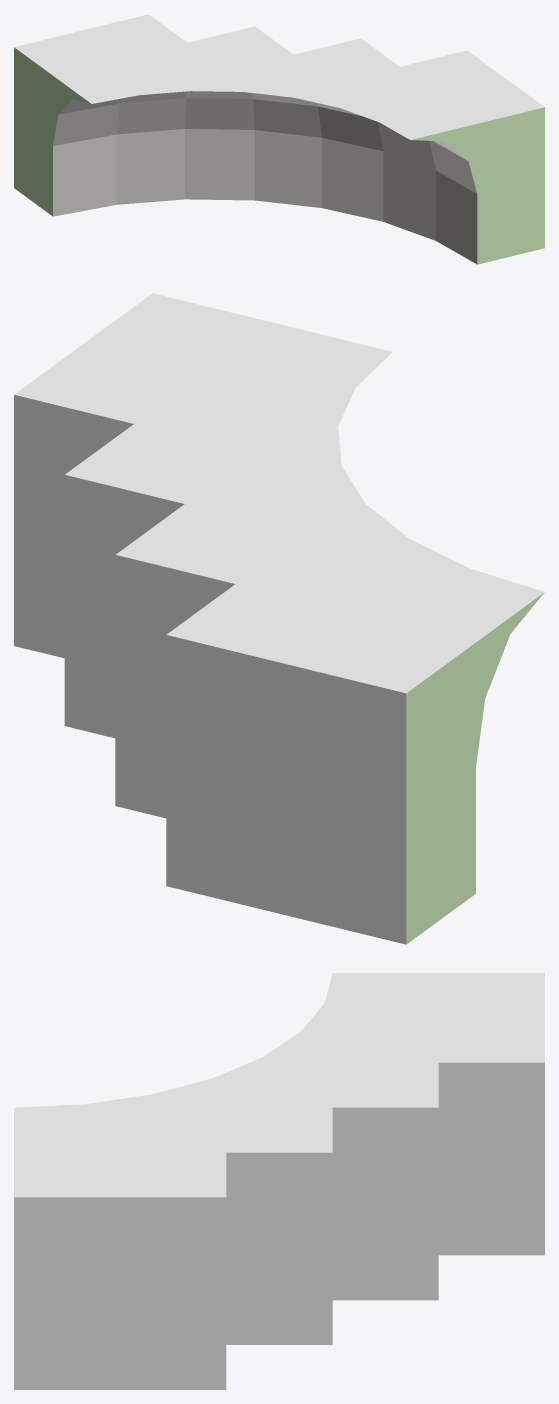
File: Wall_Curve_Inner_5x5_Top.glb
The picture shows the model from 3 angles, top to bottom: view 1: azimuth 30°, elevation 25°; view 2: azimuth 150°, elevation 25°; view 3: azimuth 270°, elevation 25°; orthographic projection. The views are drawn at different scales.
Visible parts, largest first — view 1: Wall_Curve_Inner_5x5_Top; view 2: Wall_Curve_Inner_5x5_Top; view 3: Wall_Curve_Inner_5x5_Top.
Boxes of the visible parts, x1=… form: Wall_Curve_Inner_5x5_Top: x1=14, y1=14, x2=544, y2=264; Wall_Curve_Inner_5x5_Top: x1=14, y1=293, x2=544, y2=944; Wall_Curve_Inner_5x5_Top: x1=14, y1=973, x2=544, y2=1389.
Bounding box in the file's own units: 500 × 200 × 500.
